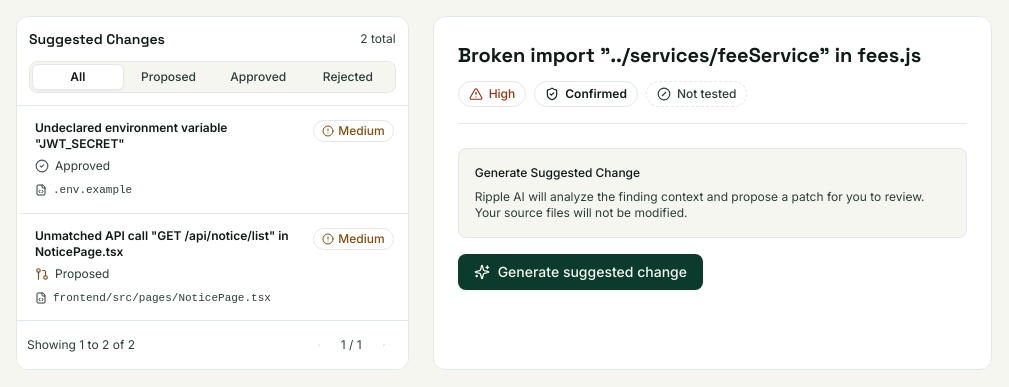
Fixes Screen (Step 12b Part 2) › ?finding=<id> on 422 NO_AUTOMATIC_FIX shows friendly message and Investigations link
Click the button "Generate suggested change" at (580, 272), box [458, 254, 703, 290]
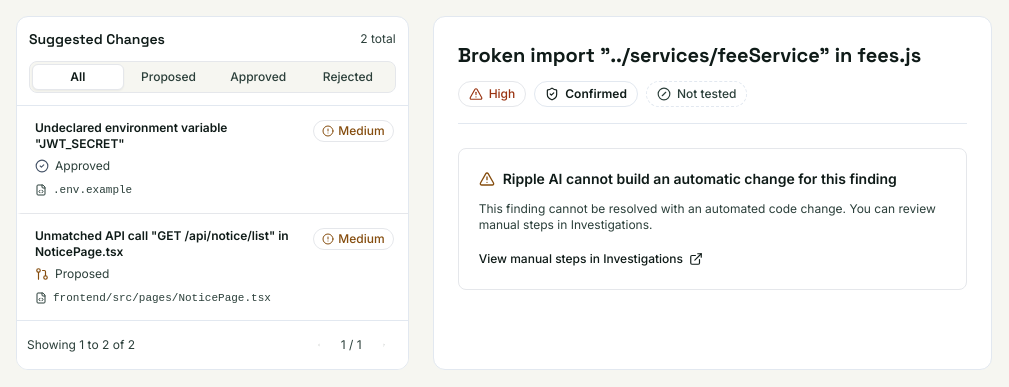
Now the text "Ripple AI cannot build an automatic change for this finding" is shown, box [503, 169, 897, 189]
Now the link "View manual steps in Investigations" is shown, box [479, 251, 703, 267]
